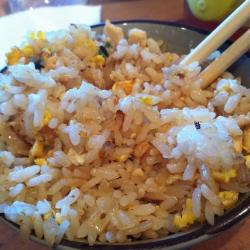rice: (15, 42, 238, 227)
